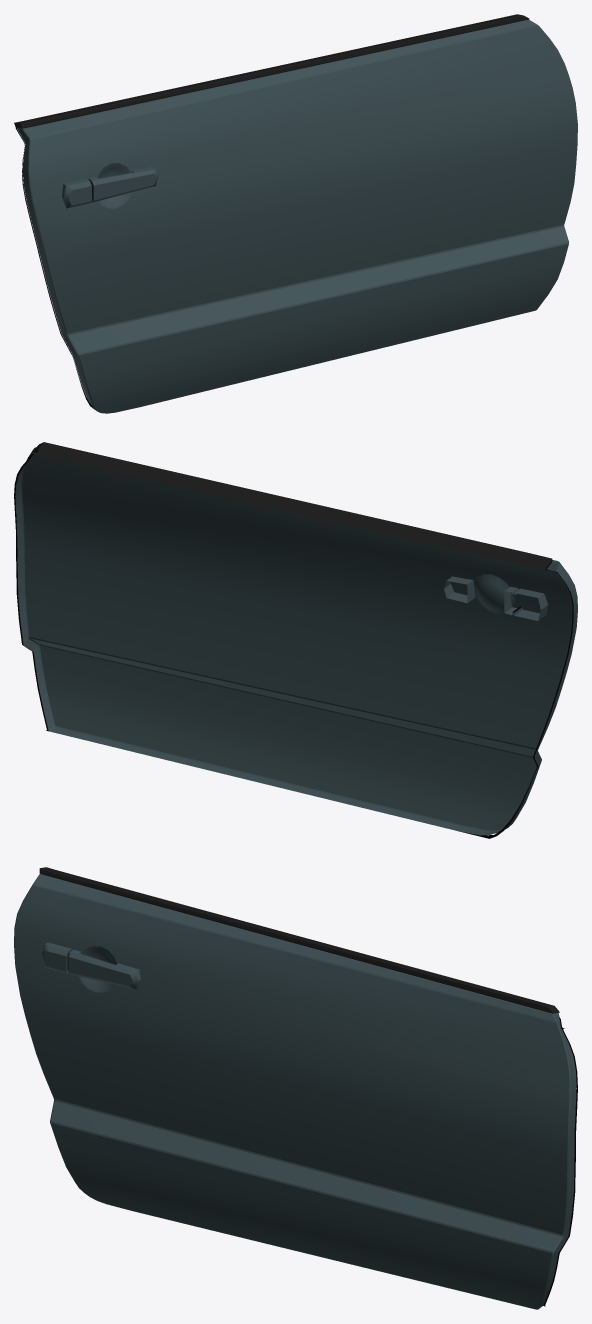
3 views of the same model, one above another, from view 1: azimuth 30°, elevation 25°; view 2: azimuth 150°, elevation 25°; view 3: azimuth 330°, elevation 25° (orthographic). The views are drawn at different scales.
Visible parts, largest first — view 1: P222_15_261B_R_1_DaS_P222_15_261B_R, P222_15_261B_R_1_DaS_P222_15_261B_R_E, P222_15_261B_R_P222_15_261B_R_3_D; view 2: P222_15_261B_R_1_DaS_P222_15_261B_R, P222_15_261B_R_P222_15_261B_R_3_D, P222_15_261B_R_1_DaS_P222_15_261B_R_E, P222_15_261B_R_P222_15_261B_R_2_D; view 3: P222_15_261B_R_1_DaS_P222_15_261B_R, P222_15_261B_R_1_DaS_P222_15_261B_R_E, P222_15_261B_R_P222_15_261B_R_3_D, P222_15_261B_R_P222_15_261B_R_2_D.
Boxes of the visible parts, x1,y1,x2,y2 form: P222_15_261B_R_1_DaS_P222_15_261B_R: [17, 20, 577, 412]; P222_15_261B_R_1_DaS_P222_15_261B_R_E: [22, 19, 577, 413]; P222_15_261B_R_P222_15_261B_R_3_D: [14, 14, 529, 128]; P222_15_261B_R_1_DaS_P222_15_261B_R: [15, 447, 577, 835]; P222_15_261B_R_P222_15_261B_R_3_D: [32, 442, 552, 570]; P222_15_261B_R_1_DaS_P222_15_261B_R_E: [21, 464, 559, 832]; P222_15_261B_R_P222_15_261B_R_2_D: [14, 450, 573, 838]; P222_15_261B_R_1_DaS_P222_15_261B_R: [14, 875, 576, 1309]; P222_15_261B_R_1_DaS_P222_15_261B_R_E: [14, 874, 570, 1309]; P222_15_261B_R_P222_15_261B_R_3_D: [39, 867, 559, 1013]; P222_15_261B_R_P222_15_261B_R_2_D: [67, 953, 577, 1306].
Bounding box in the file's own units: 142 × 73.82 × 13.67.
